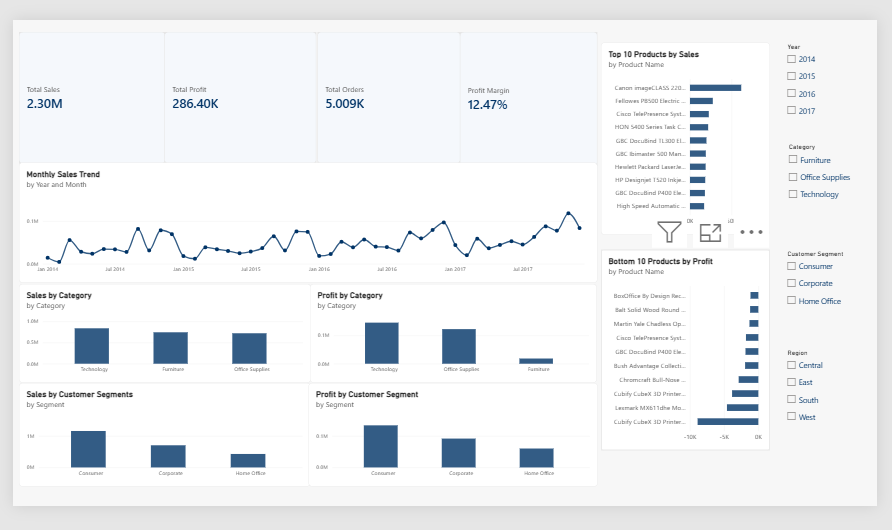

Layout of this report page (visuals, bound fields, positions):
{"tool":"powerbi","page":{"name":"Page 1","canvas":[1920,1080],"ordinal":0},"visuals":[{"type":"cardVisual","fields":{"Data":["Sum(Sample - Superstore.Sales)"]},"box":[12.5,27.5,325,292.5],"z":0},{"type":"cardVisual","fields":{"Data":["Sum(Sample - Superstore.Profit)"]},"box":[337.5,27.5,337.5,292.5],"z":1000},{"type":"cardVisual","fields":{"Data":["Count(Sample - Superstore.Order ID)"]},"box":[675,27.5,317.5,292.5],"z":2000},{"type":"cardVisual","fields":{"Data":["Sample - Superstore.Profit Margin"]},"box":[992.5,27.5,305,297.5],"z":3000},{"type":"lineChart","fields":{"Category":["Sample - Superstore.Order Date.Variation.Date Hierarchy.Year","Sample - Superstore.Order Date.Variation.Date Hierarchy.Month"],"Y":["Sum(Sample - Superstore.Sales)"]},"box":[12,318,1285,267.5],"z":4000},{"type":"clusteredColumnChart","fields":{"Category":["Sample - Superstore.Category"],"Y":["Sum(Sample - Superstore.Sales)"]},"box":[11.9,586.9,649,219.5],"z":5000},{"type":"clusteredColumnChart","fields":{"Category":["Sample - Superstore.Category"],"Y":["Sum(Sample - Superstore.Profit)"]},"box":[660.9,586.9,637,219.5],"z":6000},{"type":"clusteredColumnChart","fields":{"Category":["Sample - Superstore.Segment"],"Y":["Sum(Sample - Superstore.Sales)"]},"box":[12.5,807.5,647.5,230],"z":7000},{"type":"clusteredColumnChart","fields":{"Category":["Sample - Superstore.Segment"],"Y":["Sum(Sample - Superstore.Profit)"]},"box":[655,807.5,642.5,230],"z":8000},{"type":"clusteredBarChart","fields":{"Category":["Sample - Superstore.Product Name"],"Y":["Sum(Sample - Superstore.Sales)"]},"box":[1307.5,50,375,427.5],"z":9000},{"type":"clusteredBarChart","fields":{"Category":["Sample - Superstore.Product Name"],"Y":["Sum(Sample - Superstore.Profit)"]},"box":[1307.5,510,375,447.5],"z":10000},{"type":"slicer","fields":{"Values":["Sample - Superstore.Order Date.Variation.Date Hierarchy.Year"]},"box":[1712.5,50,205,185],"z":11000},{"type":"slicer","fields":{"Values":["Sample - Superstore.Category"]},"box":[1715,272.5,202.5,180],"z":12000},{"type":"slicer","fields":{"Values":["Sample - Superstore.Segment"]},"box":[1712.5,510,205,180],"z":13000},{"type":"slicer","fields":{"Values":["Sample - Superstore.Region"]},"box":[1712.5,730,207,193],"z":14000}]}

Visuals, with their boxes on the page's 1920x1080 design canvas (x1, y1, x2, y2). These are canvas units, not pixel positions in the 892x530 screenshot, which may show the page scaled, cropped or inside an application window:
cardVisual - Sum(Sample - Superstore.Sales): (x1=12, y1=28, x2=338, y2=320)
cardVisual - Sum(Sample - Superstore.Profit): (x1=338, y1=28, x2=675, y2=320)
cardVisual - Count(Sample - Superstore.Order ID): (x1=675, y1=28, x2=992, y2=320)
cardVisual - Sample - Superstore.Profit Margin: (x1=992, y1=28, x2=1298, y2=325)
lineChart - Sample - Superstore.Order Date.Variation.Date Hierarchy.Year x Sample - Superstore.Order Date.Variation.Date Hierarchy.Month: (x1=12, y1=318, x2=1297, y2=586)
clusteredColumnChart - Sample - Superstore.Category x Sum(Sample - Superstore.Sales): (x1=12, y1=587, x2=661, y2=806)
clusteredColumnChart - Sample - Superstore.Category x Sum(Sample - Superstore.Profit): (x1=661, y1=587, x2=1298, y2=806)
clusteredColumnChart - Sample - Superstore.Segment x Sum(Sample - Superstore.Sales): (x1=12, y1=808, x2=660, y2=1038)
clusteredColumnChart - Sample - Superstore.Segment x Sum(Sample - Superstore.Profit): (x1=655, y1=808, x2=1298, y2=1038)
clusteredBarChart - Sample - Superstore.Product Name x Sum(Sample - Superstore.Sales): (x1=1308, y1=50, x2=1682, y2=478)
clusteredBarChart - Sample - Superstore.Product Name x Sum(Sample - Superstore.Profit): (x1=1308, y1=510, x2=1682, y2=958)
slicer - Sample - Superstore.Order Date.Variation.Date Hierarchy.Year: (x1=1712, y1=50, x2=1918, y2=235)
slicer - Sample - Superstore.Category: (x1=1715, y1=272, x2=1918, y2=452)
slicer - Sample - Superstore.Segment: (x1=1712, y1=510, x2=1918, y2=690)
slicer - Sample - Superstore.Region: (x1=1712, y1=730, x2=1920, y2=923)
